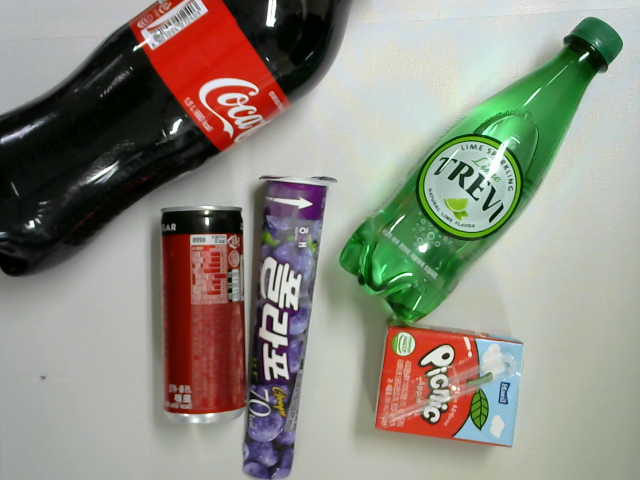Coca_Cola_1.5L: (1, 1, 355, 281)
Coca_Cola_Zero_Can_250ml: (159, 205, 248, 424)
Picnic_Apple: (371, 320, 524, 454)
Polapo_Grape: (232, 171, 340, 480)
Treviraim_500ml: (335, 12, 624, 321)
